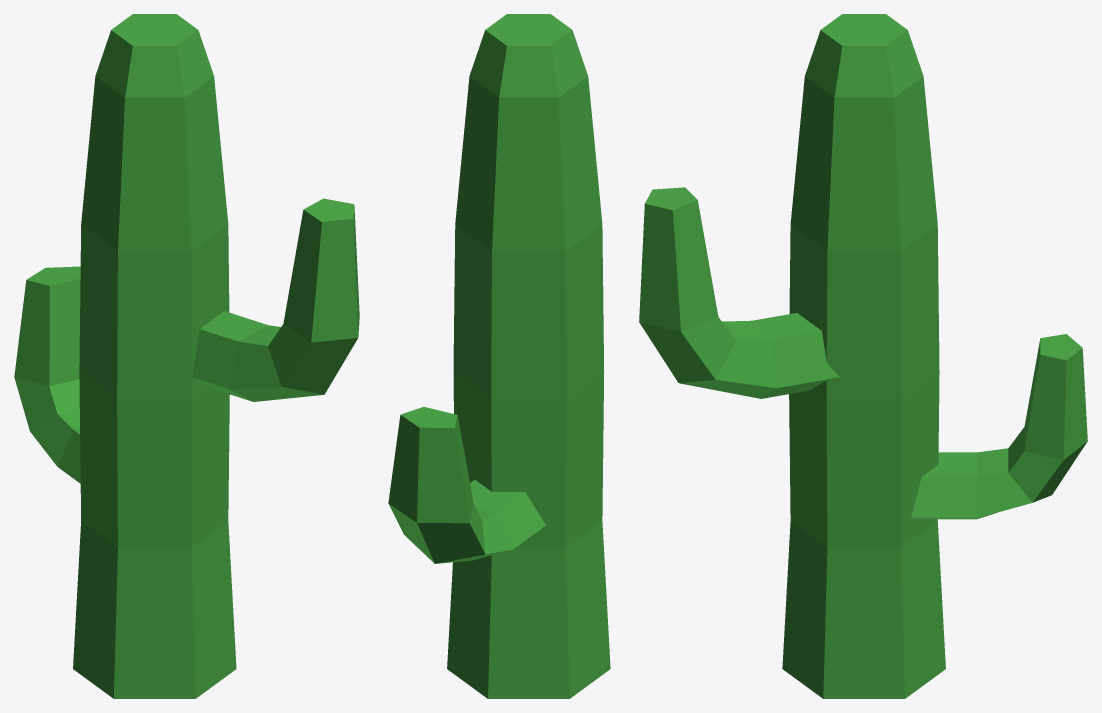
The model's file is Cactus_1.fbx.
The picture shows the model from 3 angles, left to right: view 1: azimuth 30°, elevation 25°; view 2: azimuth 150°, elevation 25°; view 3: azimuth 270°, elevation 25°; orthographic projection.
Visible parts, largest first — view 1: Cactus, Arm.001, Arm; view 2: Cactus, Arm; view 3: Cactus, Arm.001, Arm.
Boxes of the visible parts, box(x1,y1,x2,y2) form: Cactus: box(73, 14, 236, 698); Arm.001: box(192, 198, 359, 401); Arm: box(14, 266, 80, 483); Cactus: box(447, 14, 610, 698); Arm: box(388, 407, 545, 563); Cactus: box(782, 14, 945, 698); Arm.001: box(639, 187, 839, 398); Arm: box(911, 334, 1087, 519).
Size of the model in its own units: 44.13 by 154 by 98.16.
